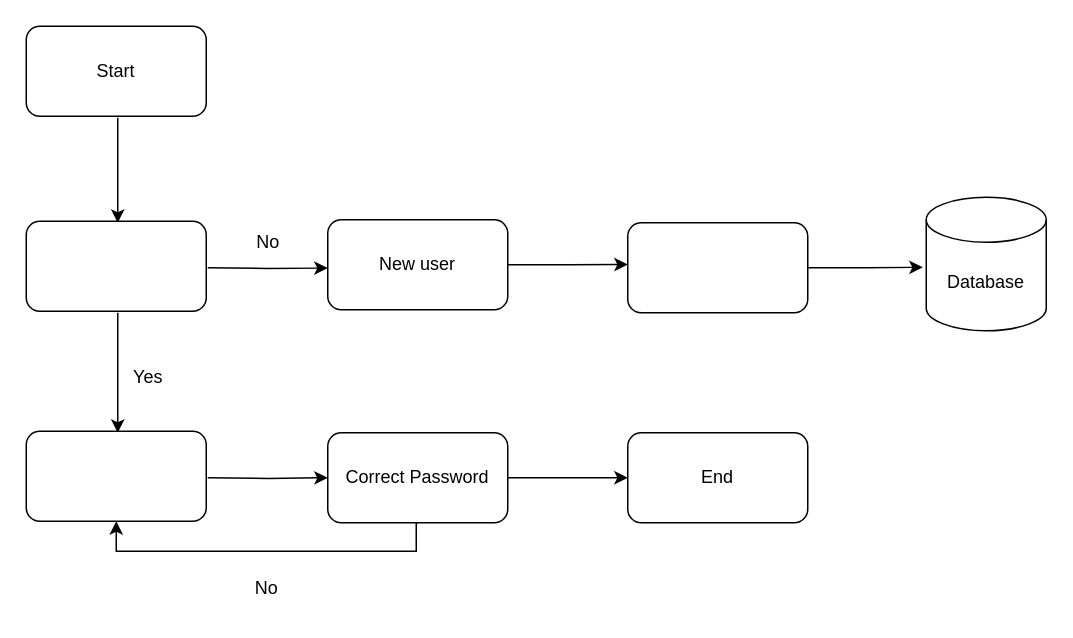
Some shapes in this 1073 by 638 pixel diagram are drawn without their labels. Each missing label, with the box of its shape:
Login: (25, 430, 206, 521)
Registered: (25, 220, 206, 311)
Registration: (626, 221, 808, 313)
